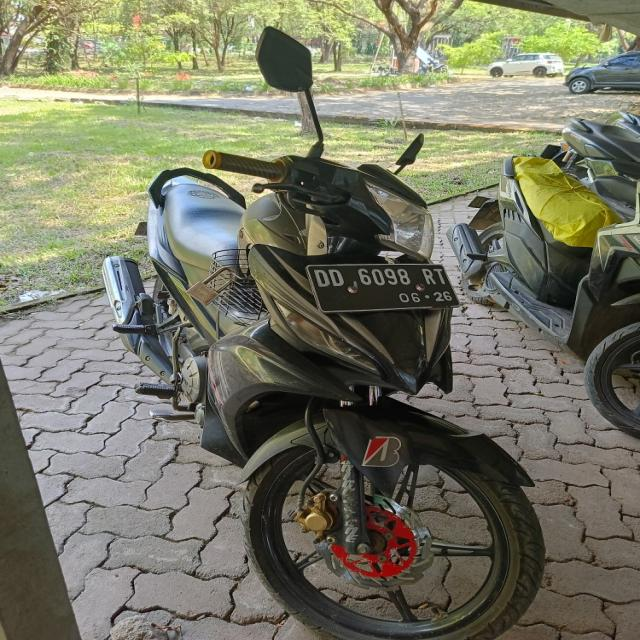plates: (305, 256, 452, 310)
